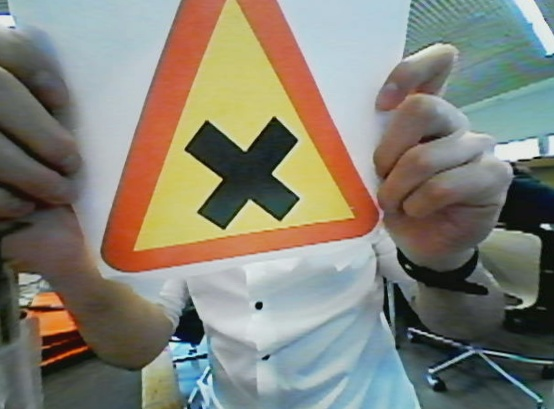junction: (100, 3, 386, 275)
